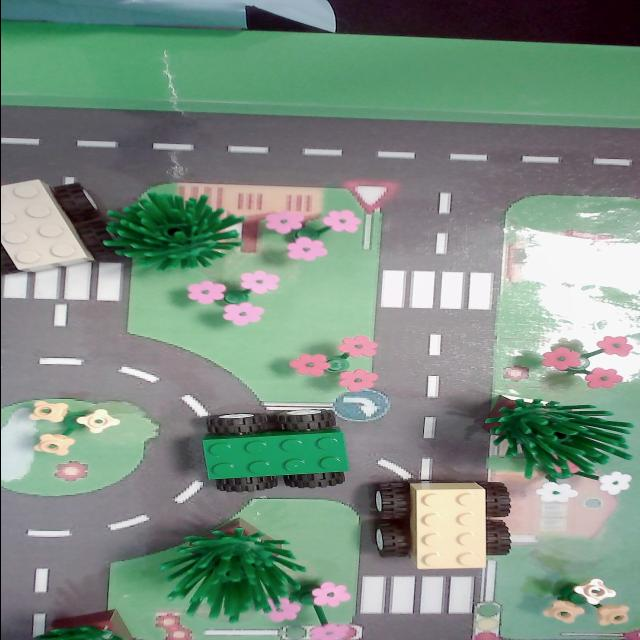Car: (363, 473, 517, 578), (190, 401, 350, 496), (0, 172, 114, 280)
Flower: (531, 325, 636, 395), (177, 268, 287, 334), (286, 330, 388, 400), (258, 201, 364, 266), (257, 581, 365, 640), (18, 397, 122, 458), (537, 572, 637, 632)
Tree: (154, 514, 310, 615), (477, 396, 627, 481), (100, 195, 243, 275)
